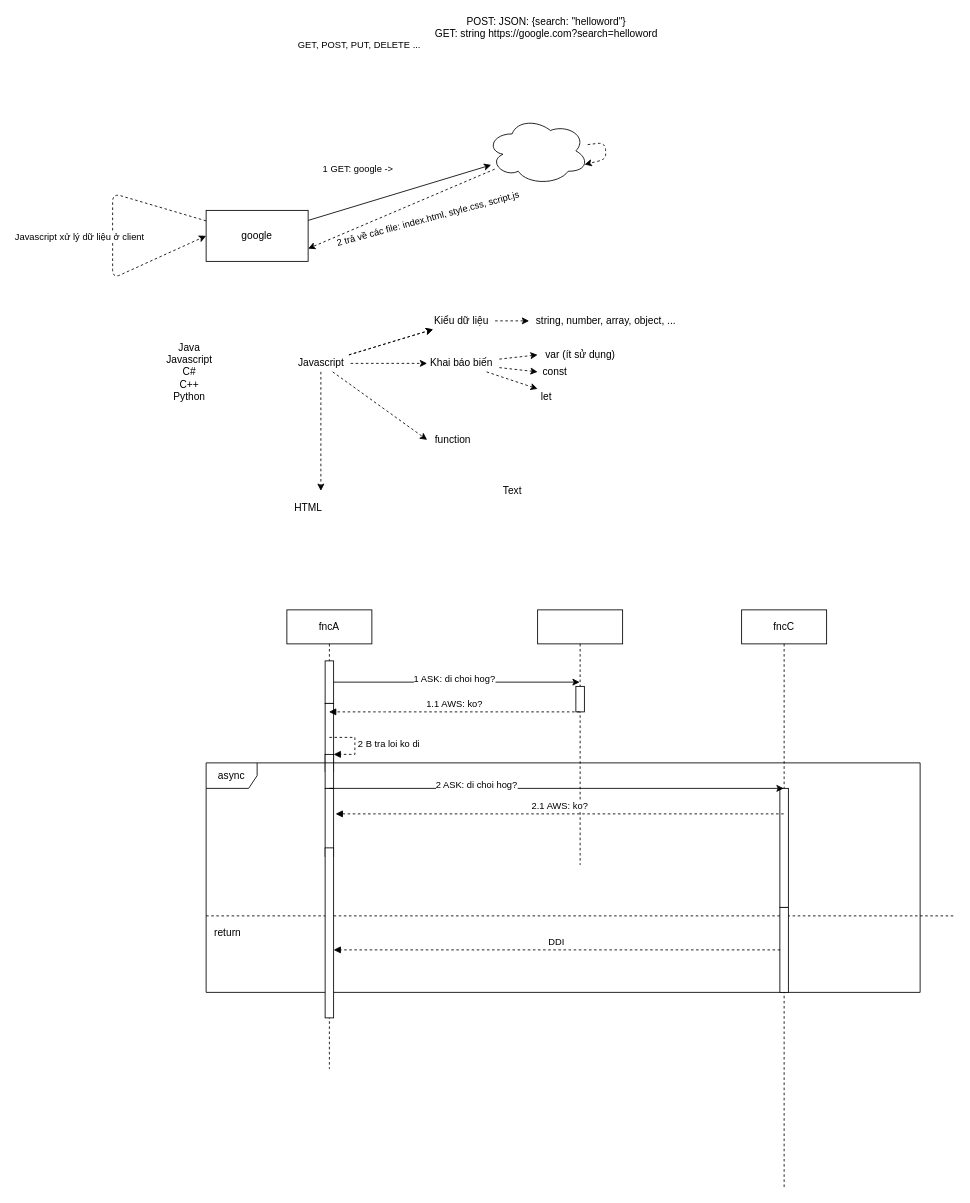
This 970x1203 diagram has some shape labels left out. The centre of each missing label's shape, as x and y in pixels:
fncB: the point at 580,737
Server: the point at 537,150
